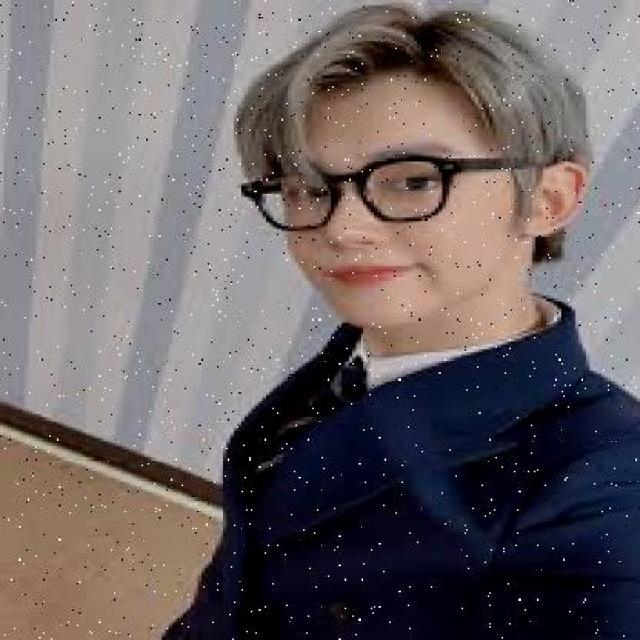mask: (233, 150, 490, 228)
